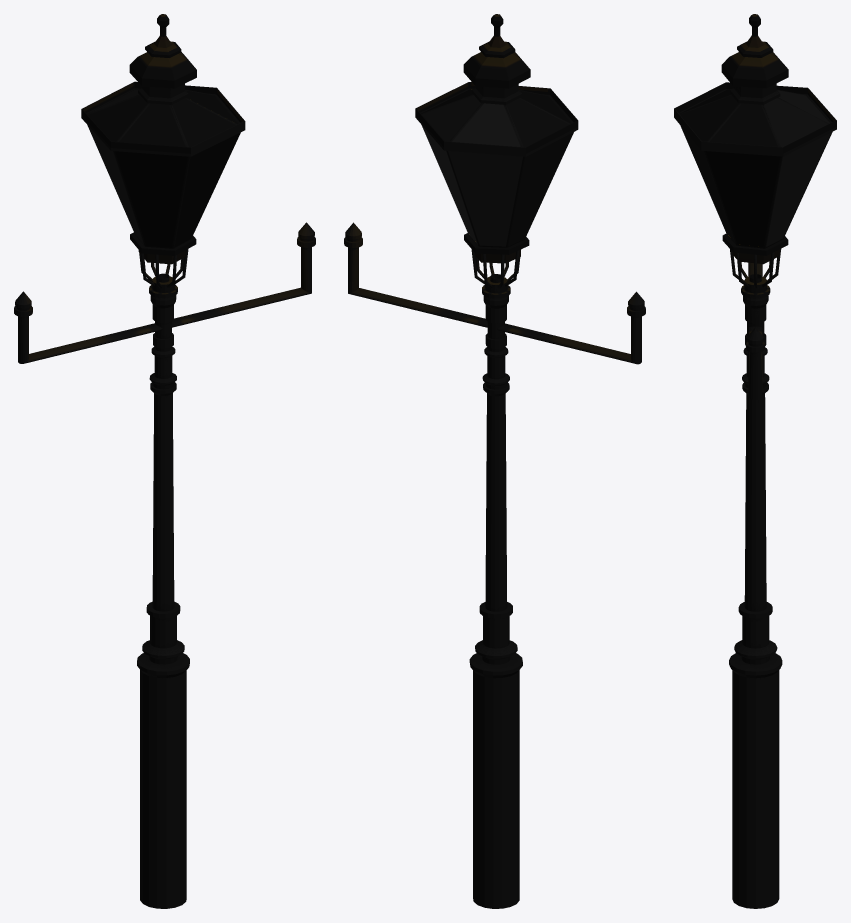
The picture shows the model from 3 angles, left to right: view 1: azimuth 30°, elevation 25°; view 2: azimuth 150°, elevation 25°; view 3: azimuth 270°, elevation 25°; orthographic projection.
Visible parts, largest first — view 1: Cylinder.001; view 2: Cylinder.001; view 3: Cylinder.001.
Part boxes in pixels (x1,y1,x2,y2): Cylinder.001: (14,14,315,908); Cylinder.001: (344,14,645,908); Cylinder.001: (674,14,836,908).
Bounding box in the file's own units: 212 × 597 × 99.75.
Materials: 1 (1 with a texture image).
